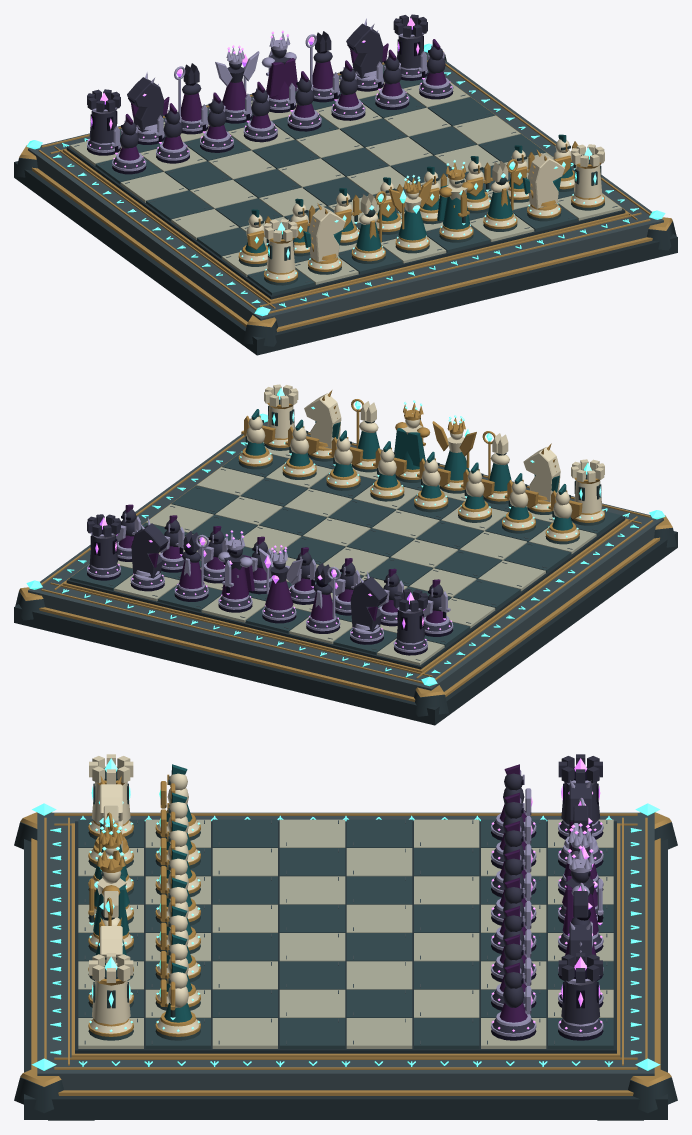
The model's file is runeforge-chess-set.glb.
3 renders of one model, top to bottom at view 1: azimuth 30°, elevation 25°; view 2: azimuth 150°, elevation 25°; view 3: azimuth 270°, elevation 25°, orthographic. The views are drawn at different scales.
Visible parts, largest first — view 1: Runeforge / carved arena, Dusk / Sentinel (×8), Dawn / Sentinel (×8), Dawn / Wyrm knight (×2), Dawn / Runic keep (×2), Dusk / Wyrm knight (×2), Dusk / Runic keep (×2), Dawn / Crystal sage (×2), Dusk / Crystal sage (×2), Dawn / Starweaver, Dawn / Oathbound king, Dusk / Starweaver (+1 smaller); view 2: Runeforge / carved arena, Dawn / Sentinel (×8), Dusk / Sentinel (×8), Dusk / Wyrm knight (×2), Dusk / Runic keep (×2), Dawn / Runic keep (×2), Dusk / Crystal sage (×2), Dawn / Wyrm knight (×2), Dawn / Crystal sage (×2), Dusk / Starweaver, Dusk / Oathbound king, Dawn / Oathbound king (+1 smaller); view 3: Runeforge / carved arena, Dawn / Sentinel (×8), Dusk / Sentinel (×8), Dusk / Runic keep (×2), Dawn / Runic keep (×2), Dawn / Oathbound king, Dusk / Oathbound king, Dawn / Wyrm knight (×2), Dusk / Wyrm knight (×2), Dusk / Crystal sage (×2), Dawn / Crystal sage (×2), Dusk / Starweaver (+1 smaller).
Boxes of the visible parts, x1=… form: Runeforge / carved arena: x1=14, y1=43, x2=677, y2=355; Dusk / Sentinel (×8): x1=110, y1=39, x2=453, y2=174; Dawn / Sentinel (×8): x1=238, y1=134, x2=578, y2=266; Dawn / Wyrm knight (×2): x1=303, y1=149, x2=564, y2=274; Dawn / Runic keep (×2): x1=264, y1=144, x2=604, y2=285; Dusk / Wyrm knight (×2): x1=127, y1=18, x2=388, y2=144; Dusk / Runic keep (×2): x1=87, y1=14, x2=427, y2=155; Dawn / Crystal sage (×2): x1=351, y1=159, x2=517, y2=263; Dusk / Crystal sage (×2): x1=174, y1=31, x2=340, y2=134; Dawn / Starweaver: x1=388, y1=175, x2=432, y2=253; Dawn / Oathbound king: x1=437, y1=160, x2=473, y2=242; Dusk / Starweaver: x1=215, y1=45, x2=259, y2=123; Runeforge / carved arena: x1=14, y1=413, x2=677, y2=725; Dawn / Sentinel (×8): x1=238, y1=409, x2=582, y2=544; Dusk / Sentinel (×8): x1=116, y1=504, x2=453, y2=636; Dusk / Wyrm knight (×2): x1=130, y1=517, x2=387, y2=644; Dusk / Runic keep (×2): x1=87, y1=514, x2=427, y2=655; Dawn / Runic keep (×2): x1=264, y1=384, x2=604, y2=525; Dusk / Crystal sage (×2): x1=174, y1=531, x2=340, y2=633; Dawn / Wyrm knight (×2): x1=304, y1=390, x2=560, y2=514; Dawn / Crystal sage (×2): x1=351, y1=399, x2=511, y2=504; Dusk / Starweaver: x1=259, y1=545, x2=303, y2=623; Dusk / Oathbound king: x1=218, y1=530, x2=254, y2=612; Dawn / Oathbound king: x1=394, y1=400, x2=430, y2=482; Runeforge / carved arena: x1=14, y1=803, x2=677, y2=1120; Dawn / Sentinel (×8): x1=155, y1=764, x2=200, y2=1040; Dusk / Sentinel (×8): x1=491, y1=764, x2=536, y2=1040; Dusk / Runic keep (×2): x1=558, y1=754, x2=603, y2=1040; Dawn / Runic keep (×2): x1=88, y1=754, x2=133, y2=1040; Dawn / Oathbound king: x1=88, y1=846, x2=133, y2=952; Dusk / Oathbound king: x1=558, y1=845, x2=603, y2=952; Dawn / Wyrm knight (×2): x1=88, y1=776, x2=133, y2=1007; Dusk / Wyrm knight (×2): x1=558, y1=780, x2=603, y2=1007; Dusk / Crystal sage (×2): x1=558, y1=797, x2=603, y2=980; Dawn / Crystal sage (×2): x1=88, y1=805, x2=133, y2=980; Dusk / Starweaver: x1=558, y1=823, x2=603, y2=923.
Bounding box in the file's own units: 9.9 × 2.61 × 9.9.
